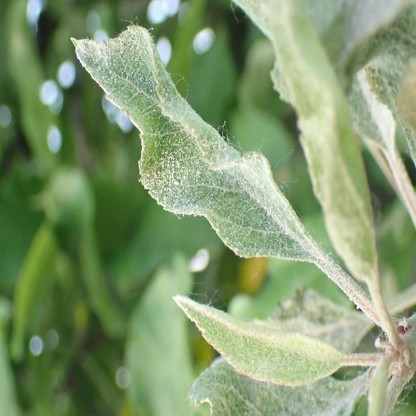powder: (69, 25, 318, 256), (236, 0, 379, 276), (172, 295, 342, 379), (348, 2, 416, 150), (192, 356, 359, 416), (251, 286, 371, 348)
